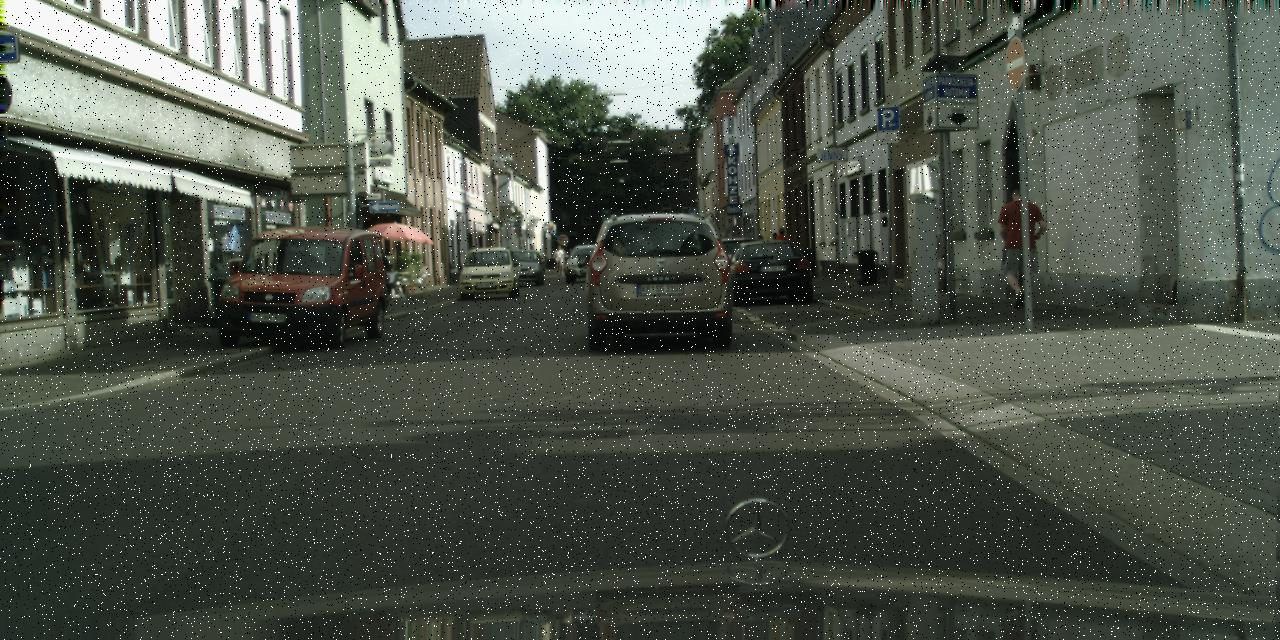ped: (996, 189, 1044, 309), (751, 234, 770, 279), (552, 247, 568, 275), (773, 226, 793, 243), (536, 248, 546, 270)
